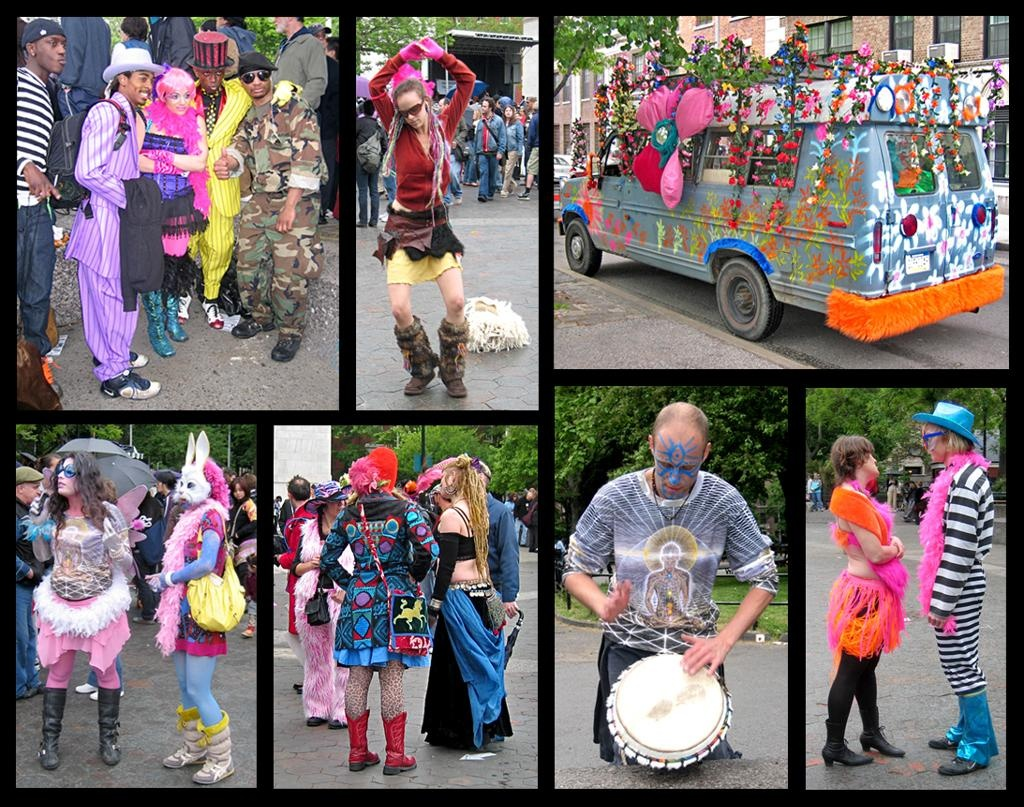human_face: (654, 442, 702, 498), (34, 33, 66, 72), (126, 65, 156, 105), (238, 64, 270, 98), (178, 470, 208, 506), (396, 90, 424, 128), (164, 81, 190, 115), (922, 422, 944, 462), (198, 58, 224, 91), (58, 458, 82, 493), (860, 444, 878, 475), (274, 10, 294, 32), (439, 470, 455, 497), (22, 477, 40, 500), (310, 26, 326, 48), (326, 494, 342, 512), (214, 12, 230, 29), (233, 484, 245, 498), (155, 477, 165, 491), (481, 100, 489, 112), (524, 99, 532, 109), (432, 490, 440, 500), (228, 474, 236, 483), (438, 100, 444, 110), (504, 106, 510, 115)
